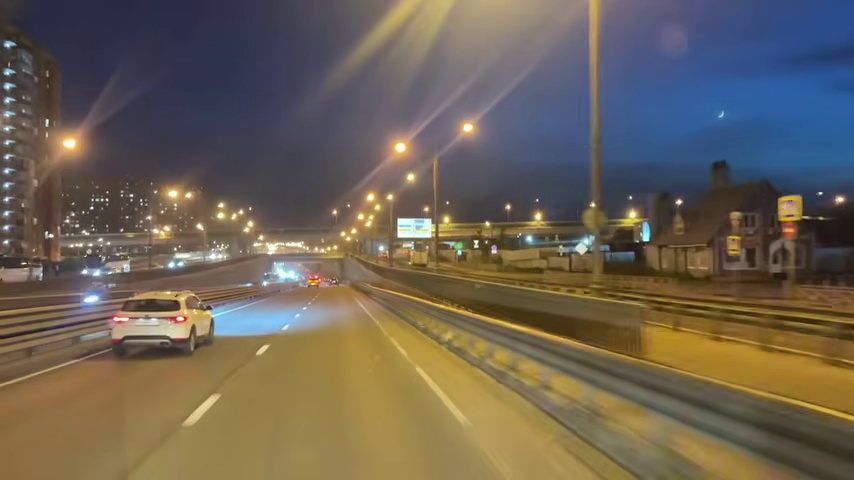acesa: (58, 134, 80, 154), (390, 138, 410, 158), (458, 118, 478, 137), (164, 186, 187, 202), (404, 171, 418, 186)
